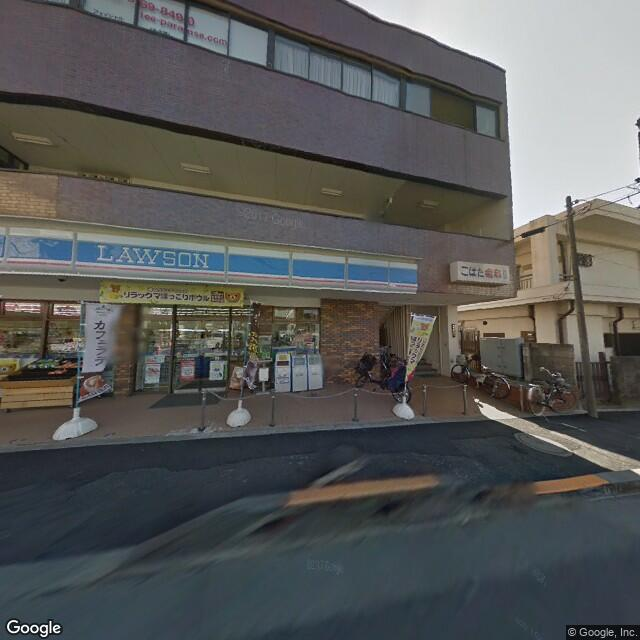lawson: (1, 218, 420, 293)
